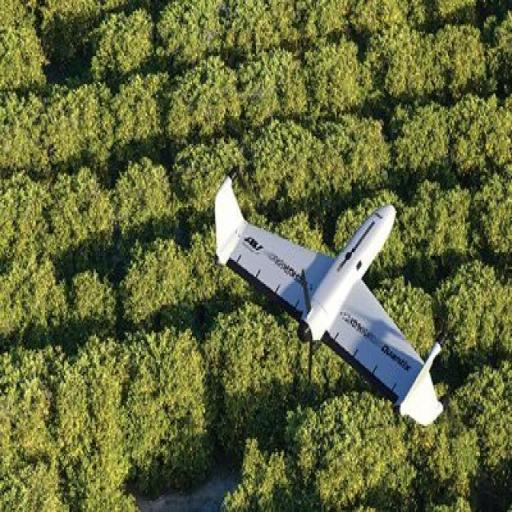uav: (212, 176, 447, 428)
